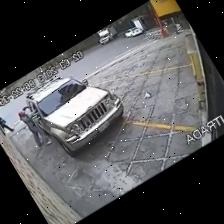person: (18, 112, 51, 147), (0, 118, 13, 132)
